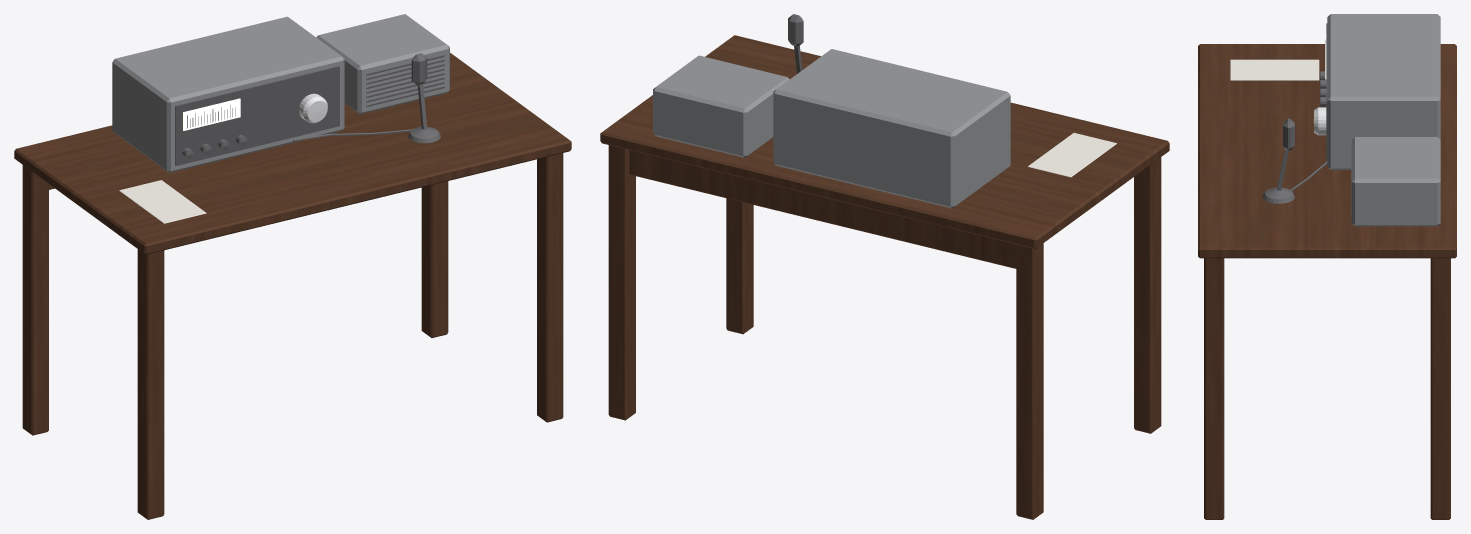
Rendered from mesa_radio.glb.
3 renders of one model, left to right at view 1: azimuth 30°, elevation 25°; view 2: azimuth 150°, elevation 25°; view 3: azimuth 270°, elevation 25°, orthographic. The views are drawn at different scales.
Parts seen in each view (by area): view 1: mesa_radio_madeira_escura, mesa_radio_motor, mesa_radio_esmalte_escuro, mesa_radio_papel, mesa_radio_plastico_preto, mesa_radio_lamp_glass, mesa_radio_aco_polido; view 2: mesa_radio_madeira_escura, mesa_radio_motor, mesa_radio_papel; view 3: mesa_radio_madeira_escura, mesa_radio_motor, mesa_radio_papel, mesa_radio_plastico_preto, mesa_radio_esmalte_escuro, mesa_radio_aco_polido.
Boxes of the visible parts, bbox=[...] form: mesa_radio_madeira_escura: bbox=[14, 53, 571, 519]; mesa_radio_motor: bbox=[112, 14, 449, 172]; mesa_radio_esmalte_escuro: bbox=[175, 55, 444, 165]; mesa_radio_papel: bbox=[119, 180, 206, 223]; mesa_radio_plastico_preto: bbox=[182, 53, 440, 158]; mesa_radio_lamp_glass: bbox=[183, 98, 240, 130]; mesa_radio_aco_polido: bbox=[299, 93, 327, 123]; mesa_radio_madeira_escura: bbox=[600, 35, 1169, 519]; mesa_radio_motor: bbox=[653, 49, 1010, 208]; mesa_radio_papel: bbox=[1028, 133, 1116, 177]; mesa_radio_madeira_escura: bbox=[1198, 44, 1456, 519]; mesa_radio_motor: bbox=[1327, 14, 1440, 226]; mesa_radio_papel: bbox=[1230, 59, 1319, 80]; mesa_radio_plastico_preto: bbox=[1263, 71, 1327, 203]; mesa_radio_esmalte_escuro: bbox=[1325, 23, 1351, 216]; mesa_radio_aco_polido: bbox=[1313, 107, 1326, 135].
Size of the model in its own units: 1.2 by 0.96 by 0.64.
Materials: 7 (1 with a texture image).
